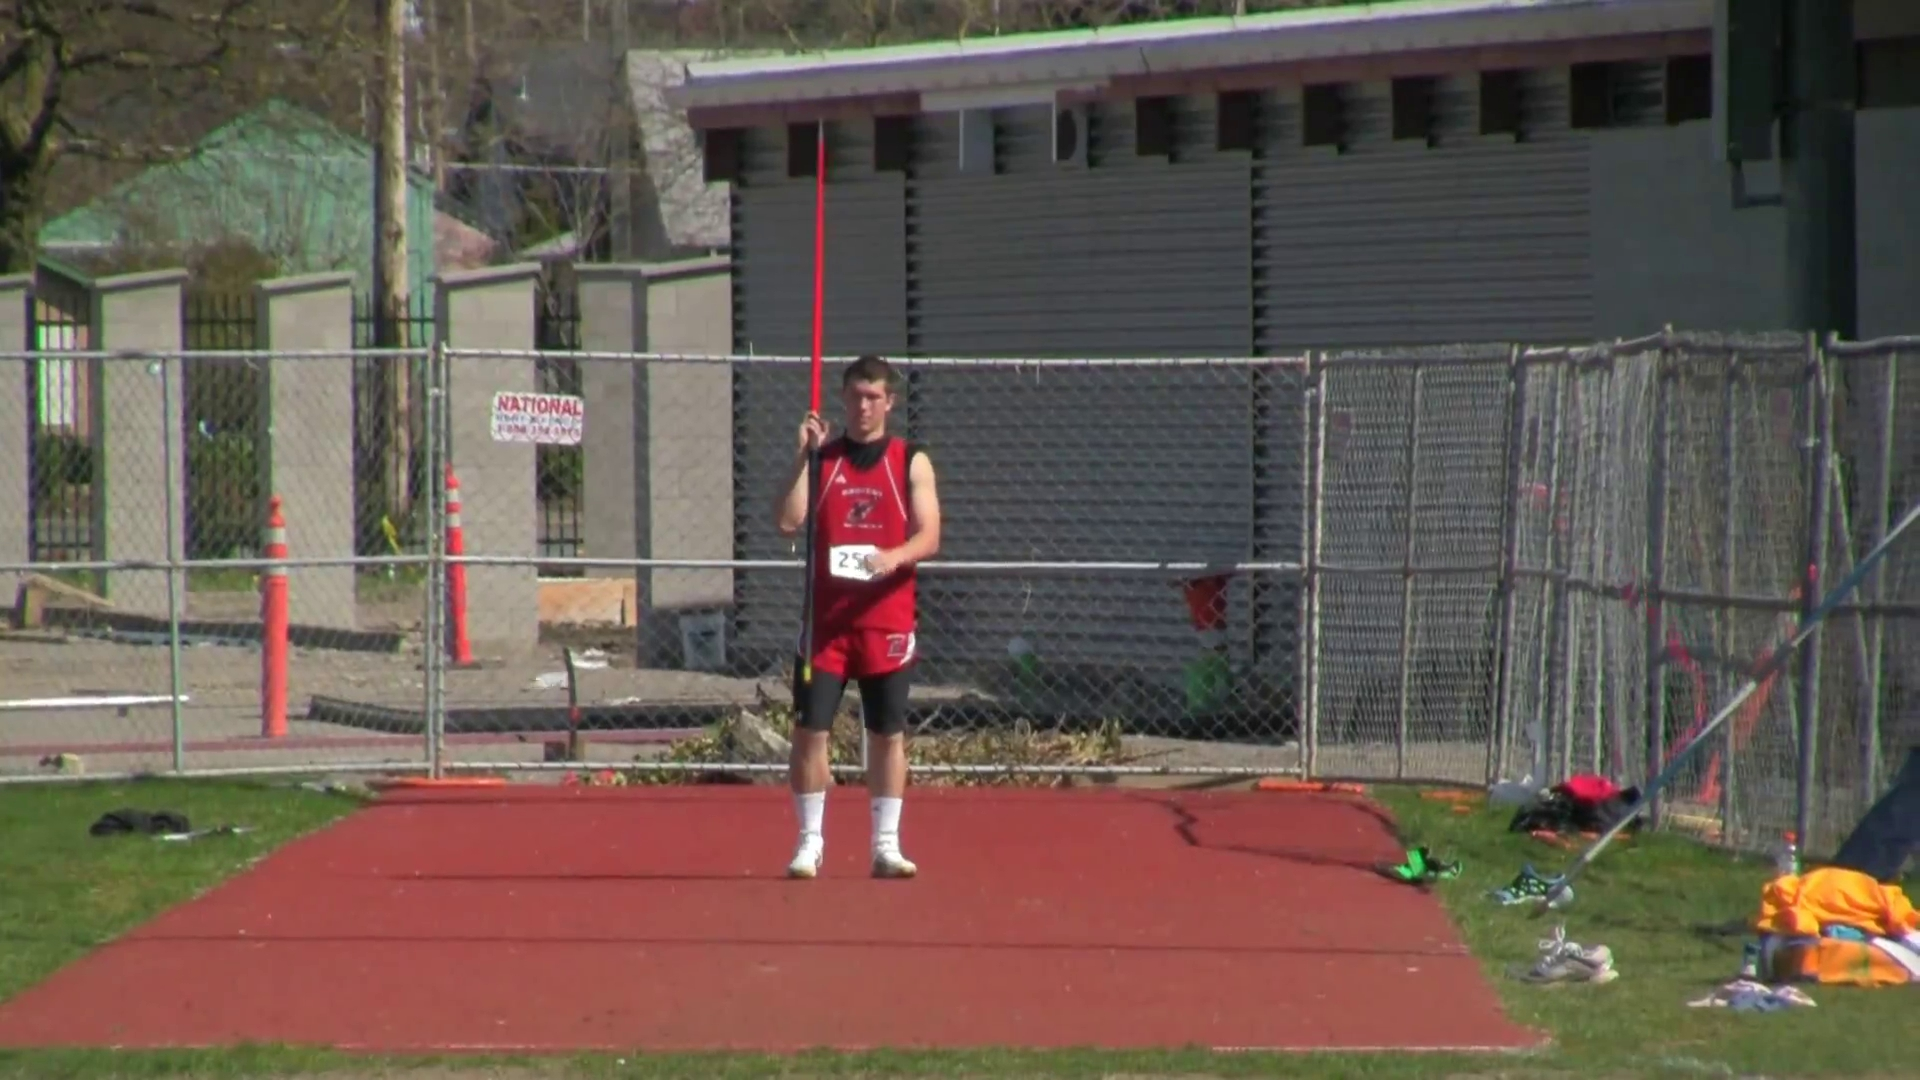person: (773, 356, 941, 879)
